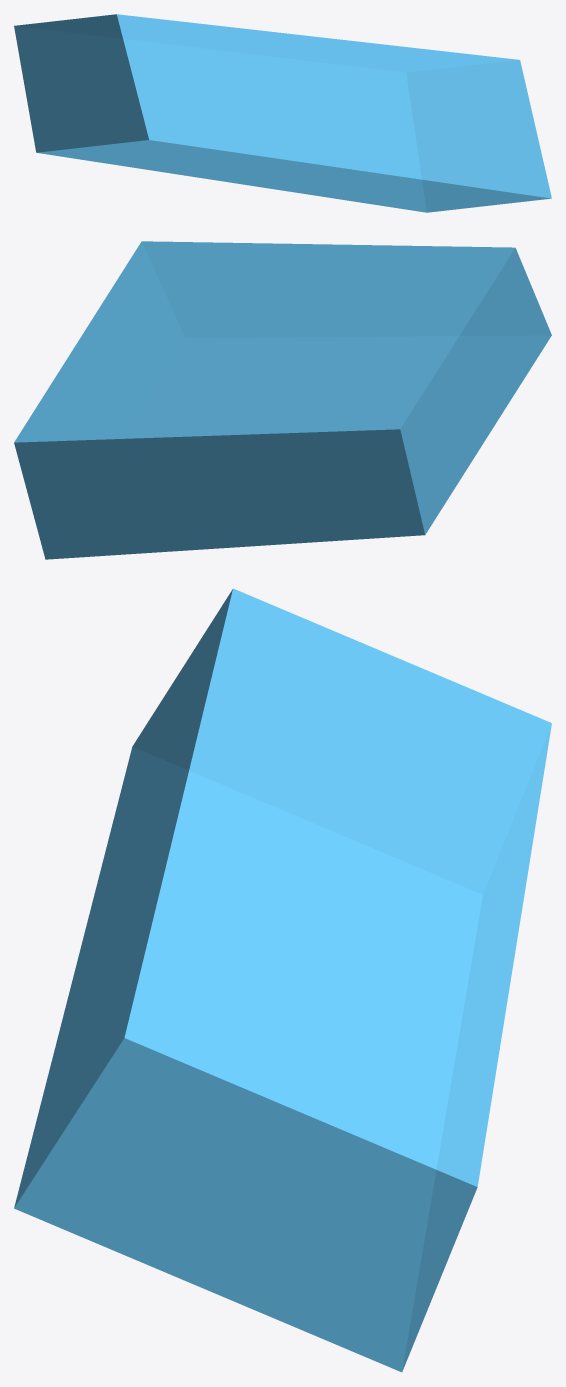
The model's file is Event_421127236_HErechit_12.fbx.
3 renders of one model, top to bottom at view 1: azimuth 30°, elevation 25°; view 2: azimuth 150°, elevation 25°; view 3: azimuth 270°, elevation 25°, orthographic. The views are drawn at different scales.
Parts seen in each view (by area): view 1: Model; view 2: Model; view 3: Model.
Boxes of the visible parts, x1,y1,x2,y2 form: Model: [14, 14, 551, 212]; Model: [14, 241, 551, 559]; Model: [14, 588, 551, 1372].
Size of the model in its own units: 1.1 by 0.9302 by 0.8928.
